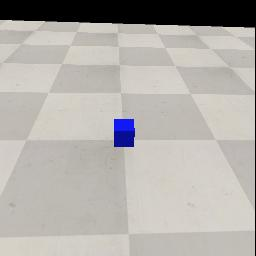box: (114, 119, 135, 147)
